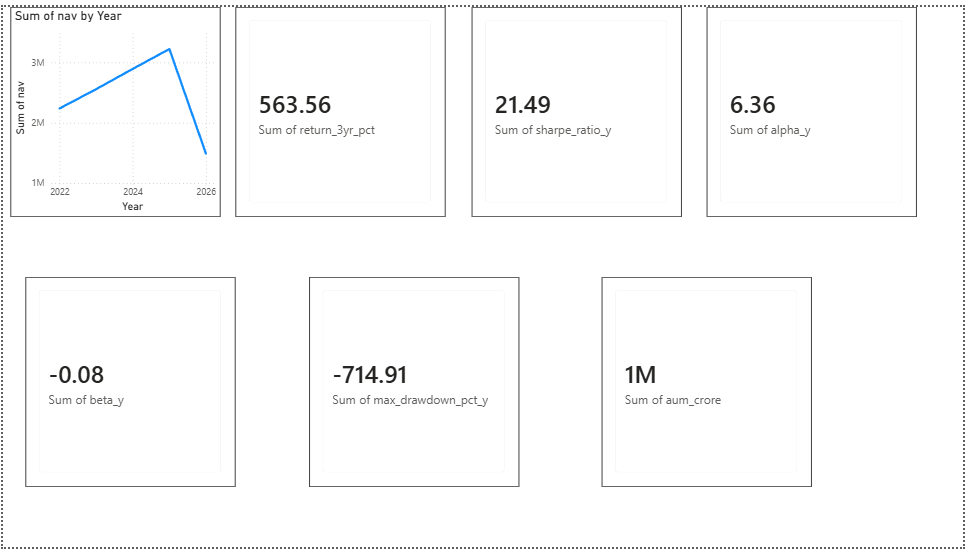

The page's visual inventory and layout, read from the dashboard file:
{"tool":"powerbi","page":{"name":"Fund Detail","canvas":[1280,720],"ordinal":4},"visuals":[{"type":"lineChart","fields":{"Category":["02_nav_history_cleaned.date.Variation.Date Hierarchy.Year","02_nav_history_cleaned.date.Variation.Date Hierarchy.Quarter","02_nav_history_cleaned.date.Variation.Date Hierarchy.Month","02_nav_history_cleaned.date.Variation.Date Hierarchy.Day"],"Y":["Sum(02_nav_history_cleaned.nav)"]},"box":[10,0,280,280],"z":0},{"type":"cardVisual","fields":{"Data":["Sum(fund_scorecard.return_3yr_pct)"]},"box":[310.1,0,279.9,279.9],"z":1000},{"type":"cardVisual","fields":{"Data":["Sum(fund_scorecard.sharpe_ratio_y)"]},"box":[624.4,0,279.9,279.9],"z":2000},{"type":"cardVisual","fields":{"Data":["Sum(fund_scorecard.alpha_y)"]},"box":[938.6,0,279.9,279.9],"z":3000},{"type":"cardVisual","fields":{"Data":["Sum(fund_scorecard.beta_y)"]},"box":[30.2,359.5,279.9,279.9],"z":4000},{"type":"cardVisual","fields":{"Data":["Sum(fund_scorecard.max_drawdown_pct_y)"]},"box":[408.9,359.5,279.9,279.9],"z":5000},{"type":"cardVisual","fields":{"Data":["Sum(fund_scorecard.aum_crore)"]},"box":[798.6,359.5,279.9,279.9],"z":6000}]}

Visuals, with their boxes in screenshot pixels (x1, y1, x2, y2), scaled from the page's 1280x720 canvas onto the 965x551 screenshot:
lineChart - 02_nav_history_cleaned.date.Variation.Date Hierarchy.Year x 02_nav_history_cleaned.date.Variation.Date Hierarchy.Quarter: x1=8, y1=0, x2=219, y2=214
cardVisual - Sum(fund_scorecard.return_3yr_pct): x1=234, y1=0, x2=445, y2=214
cardVisual - Sum(fund_scorecard.sharpe_ratio_y): x1=471, y1=0, x2=682, y2=214
cardVisual - Sum(fund_scorecard.alpha_y): x1=708, y1=0, x2=919, y2=214
cardVisual - Sum(fund_scorecard.beta_y): x1=23, y1=275, x2=234, y2=489
cardVisual - Sum(fund_scorecard.max_drawdown_pct_y): x1=308, y1=275, x2=519, y2=489
cardVisual - Sum(fund_scorecard.aum_crore): x1=602, y1=275, x2=813, y2=489
